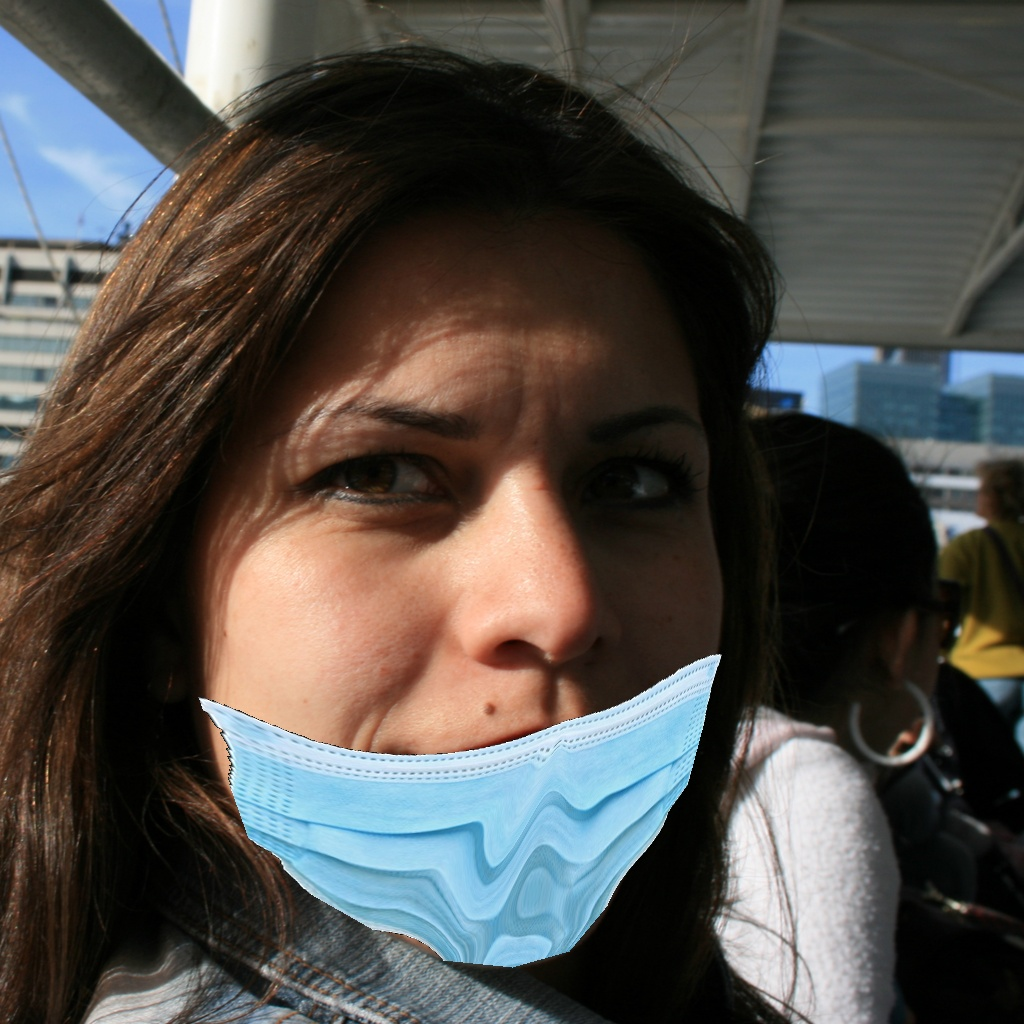mascarilla_mal_puesta: (174, 435, 757, 1013)
